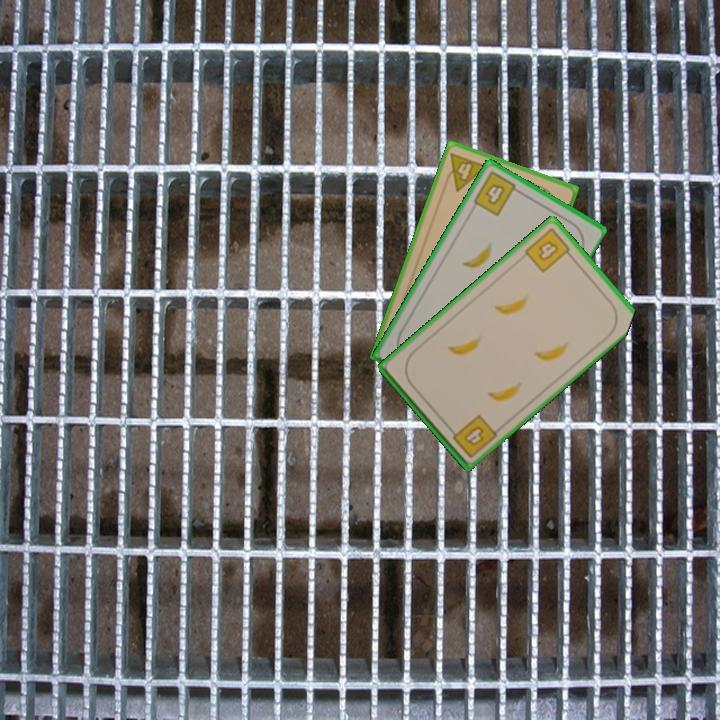4b: (469, 167, 524, 219), (521, 224, 576, 275), (445, 411, 500, 461)
4p: (440, 149, 490, 194)
